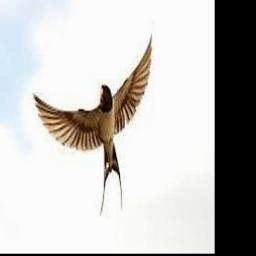Swallow: (34, 34, 153, 217)
